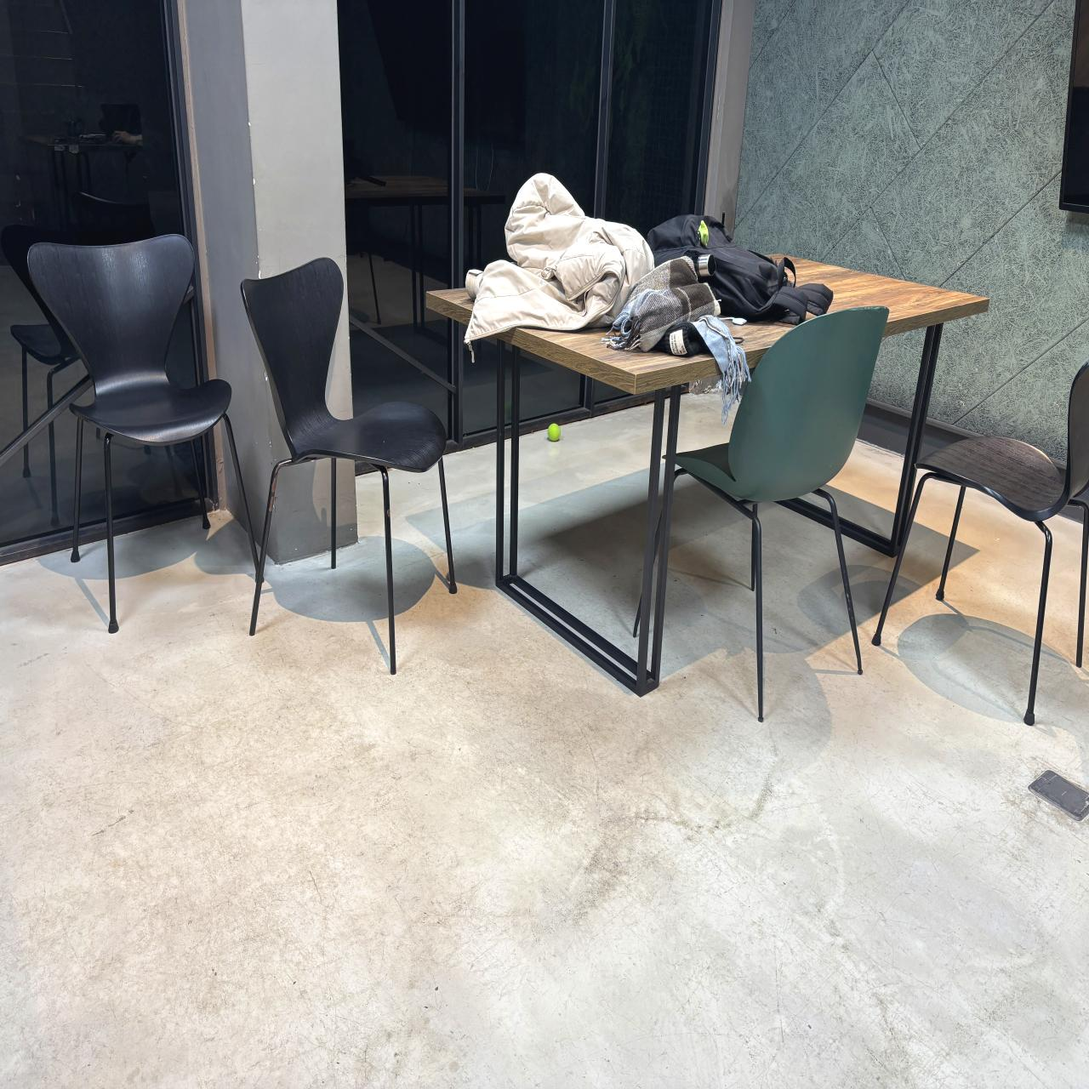tennisball: (548, 423, 561, 442)
